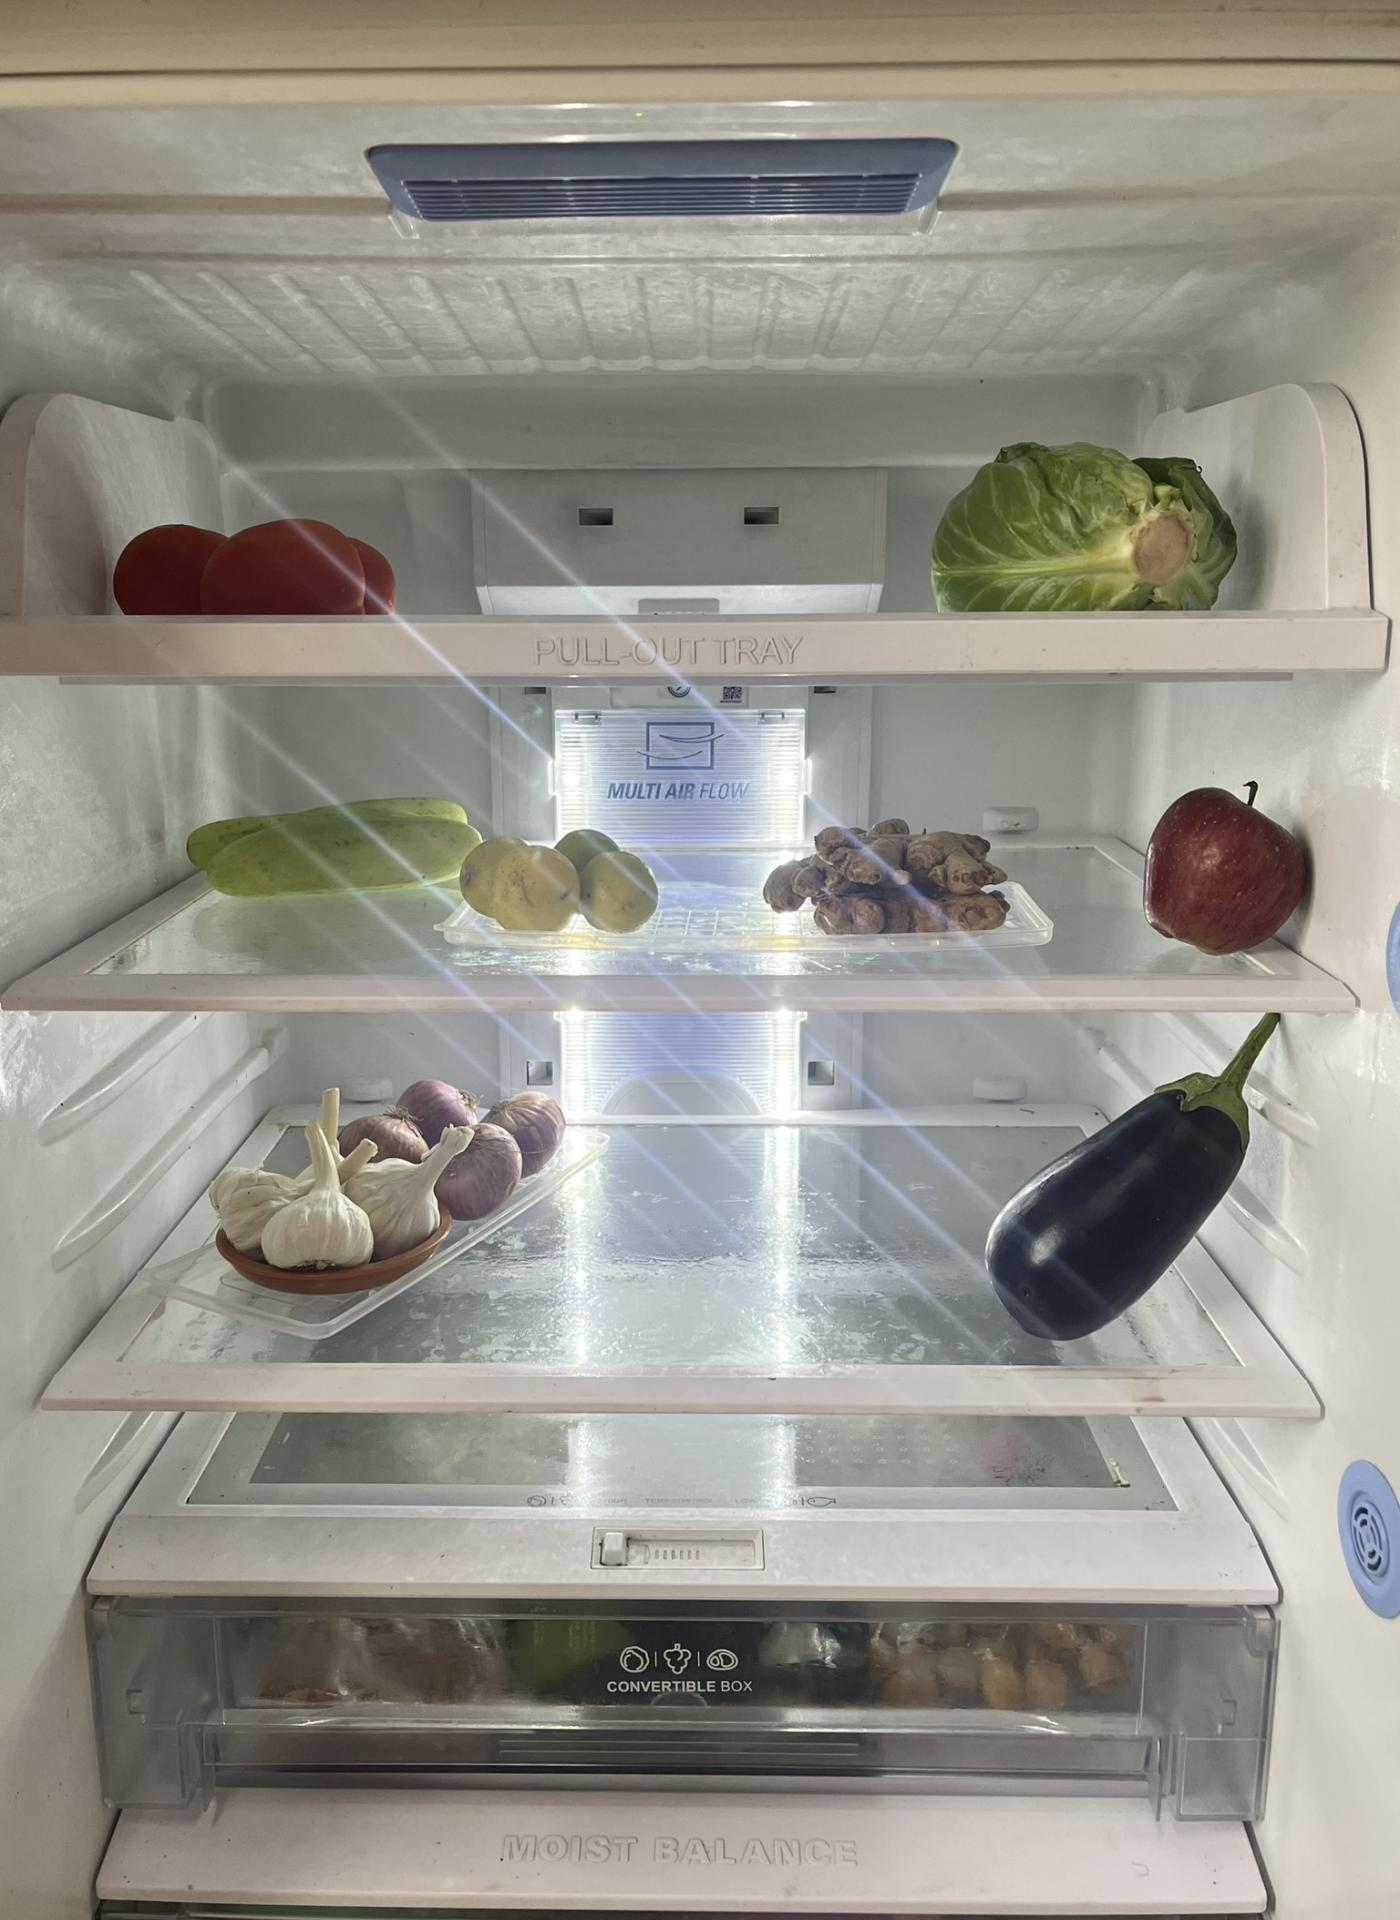apple: (1147, 778, 1315, 953)
brinjal: (986, 1008, 1279, 1340)
cabbage: (929, 434, 1242, 610)
cucumber: (185, 798, 494, 902)
garlic: (216, 1084, 476, 1280)
ginger: (769, 815, 1024, 941)
lemon: (456, 823, 659, 936)
onion: (346, 1066, 568, 1206)
tomato: (110, 517, 398, 617)
